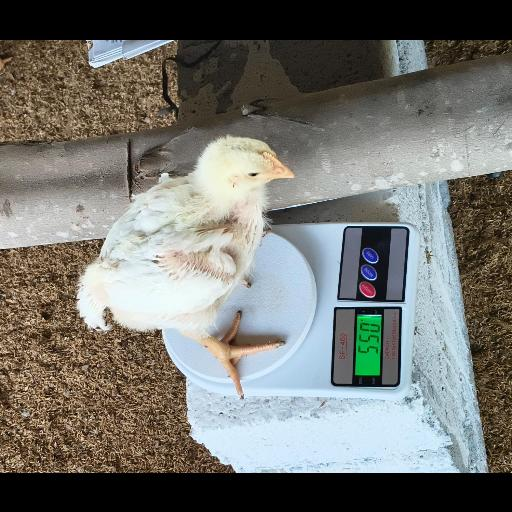chick: (74, 134, 293, 396)
